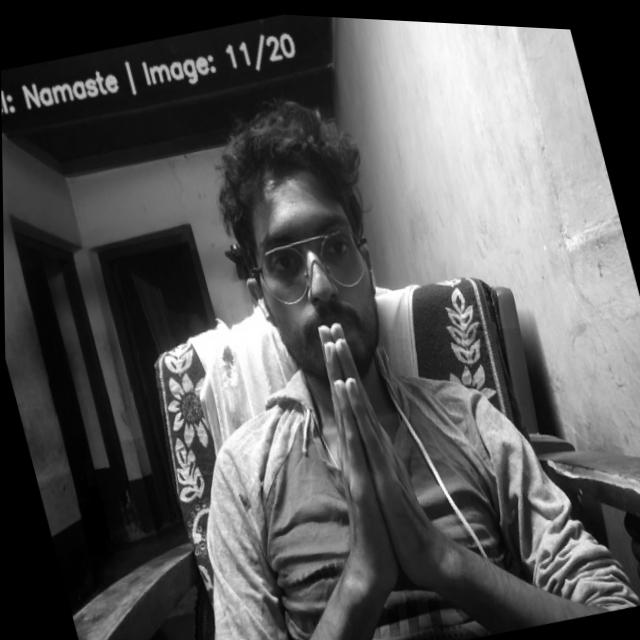Namaste: (285, 302, 466, 621)
